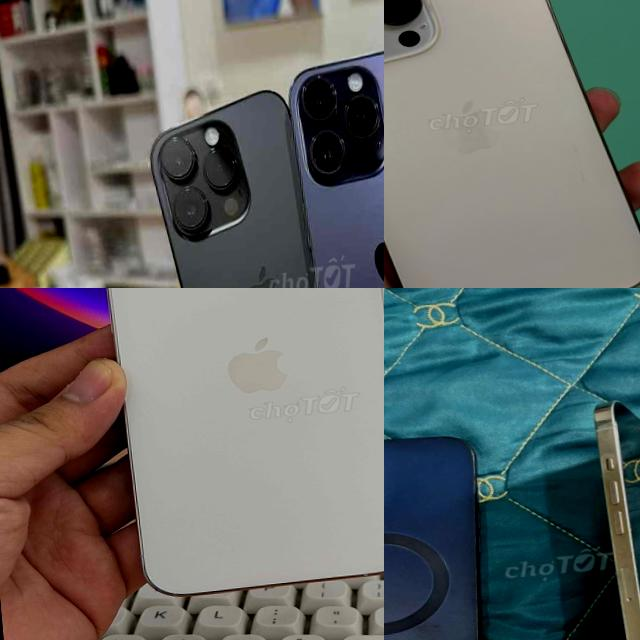gen_12_13: (89, 288, 384, 607), (578, 387, 640, 640)
gen_14: (384, 0, 640, 288), (289, 40, 384, 288)
